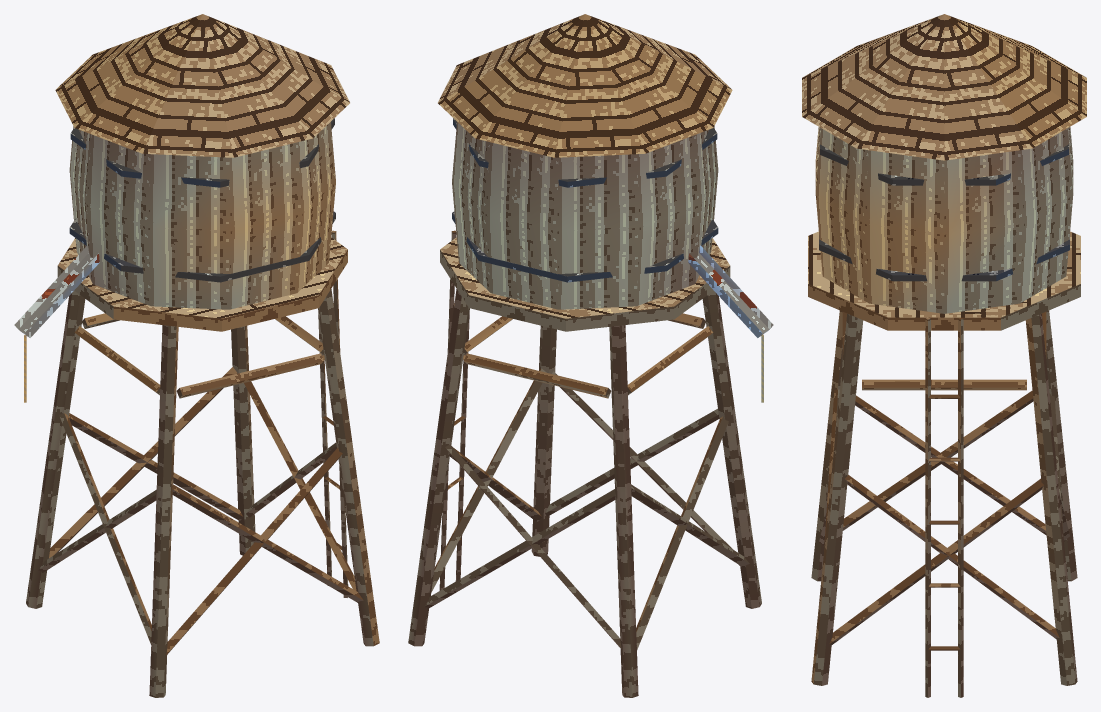
Rendered from wtown.water_tower.glb.
3 views of the same model, side by side, from view 1: azimuth 30°, elevation 25°; view 2: azimuth 150°, elevation 25°; view 3: azimuth 270°, elevation 25° (orthographic).
Parts seen in each view (by area): view 1: kit_tank, kit_cap, kit_legs, kit_bracing, kit_bracing_x, kit_deck, kit_girts, kit_hoops, kit_spout, kit_ladder; view 2: kit_tank, kit_cap, kit_legs, kit_bracing_x, kit_bracing, kit_deck, kit_girts, kit_hoops, kit_spout, kit_ladder; view 3: kit_tank, kit_cap, kit_legs, kit_deck, kit_bracing_x, kit_bracing, kit_ladder, kit_hoops, kit_girts, kit_rungs.
Boxes of the visible parts, left/top/right/bottom form: kit_tank: left=69, top=122, right=335, bottom=309; kit_cap: left=55, top=14, right=349, bottom=157; kit_legs: left=26, top=289, right=379, bottom=697; kit_bracing: left=38, top=381, right=356, bottom=654; kit_bracing_x: left=49, top=367, right=363, bottom=644; kit_deck: left=57, top=237, right=347, bottom=331; kit_girts: left=74, top=313, right=324, bottom=398; kit_hoops: left=69, top=118, right=335, bottom=282; kit_spout: left=14, top=245, right=99, bottom=337; kit_ladder: left=318, top=230, right=348, bottom=597; kit_tank: left=452, top=122, right=718, bottom=309; kit_cap: left=438, top=14, right=732, bottom=157; kit_legs: left=408, top=289, right=761, bottom=697; kit_bracing_x: left=431, top=368, right=749, bottom=648; kit_bracing: left=424, top=371, right=739, bottom=649; kit_deck: left=440, top=237, right=730, bottom=331; kit_girts: left=463, top=313, right=713, bottom=398; kit_hoops: left=452, top=118, right=718, bottom=282; kit_spout: left=688, top=245, right=773, bottom=337; kit_ladder: left=439, top=230, right=469, bottom=590; kit_tank: left=815, top=127, right=1073, bottom=313; kit_cap: left=802, top=14, right=1086, bottom=160; kit_legs: left=811, top=310, right=1077, bottom=685; kit_deck: left=808, top=231, right=1080, bottom=330; kit_bracing_x: left=824, top=389, right=1069, bottom=639; kit_bracing: left=819, top=393, right=1063, bottom=644; kit_ladder: left=925, top=317, right=963, bottom=697; kit_hoops: left=819, top=144, right=1069, bottom=281; kit_girts: left=842, top=312, right=1046, bottom=390; kit_rungs: left=928, top=394, right=960, bottom=650.
Size of the model in its own units: 5.69 by 10.37 by 4.34.
7 materials, 7 textured.
